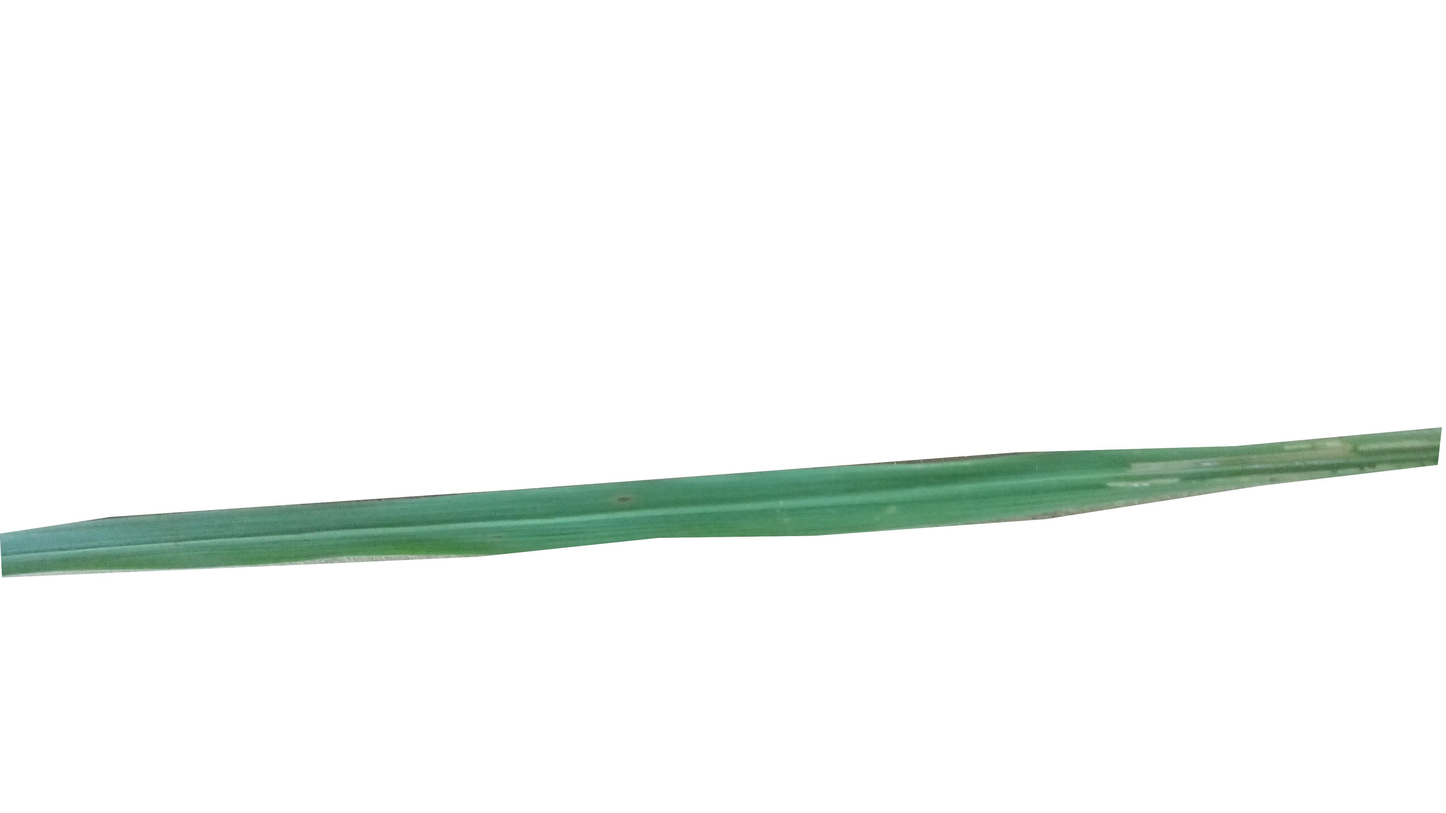Blight: (1115, 457, 1216, 495), (1244, 450, 1342, 470)
Brown spot: (611, 494, 639, 504)
